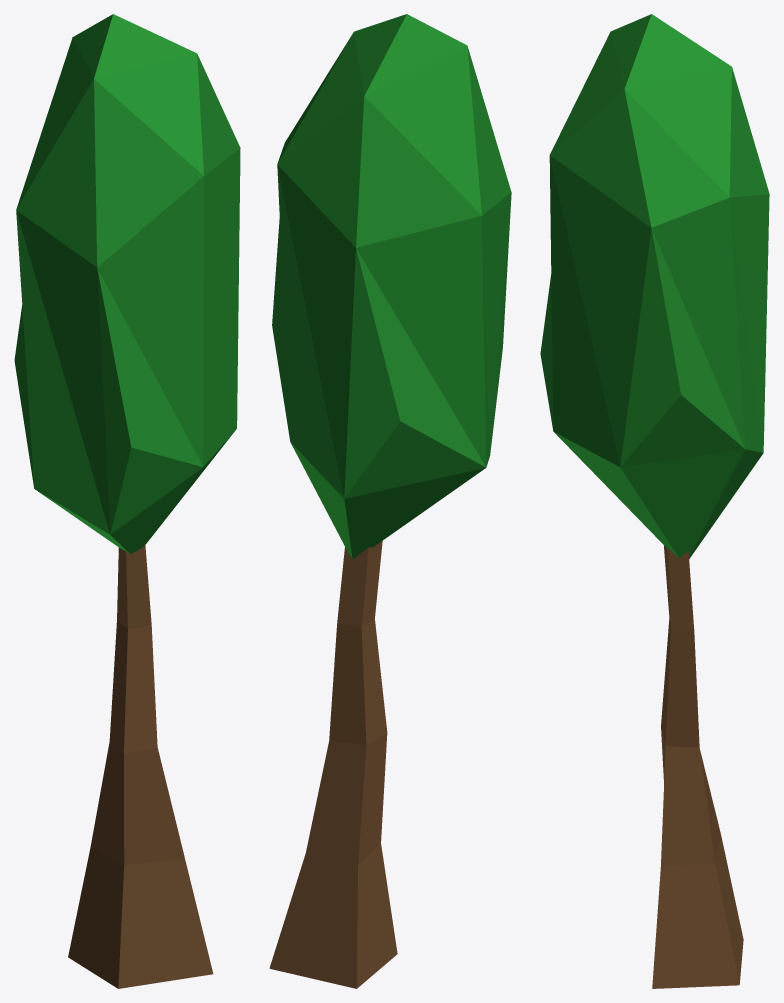
Rendered from tree2.fbx.
3 views of the same model, side by side, from view 1: azimuth 30°, elevation 25°; view 2: azimuth 150°, elevation 25°; view 3: azimuth 270°, elevation 25° (orthographic). The views are drawn at different scales.
Visible parts, largest first — view 1: crown6; view 2: crown6; view 3: crown6.
Part boxes in pixels (x1=…): crown6: x1=14, y1=14, x2=240, y2=988; crown6: x1=269, y1=14, x2=511, y2=988; crown6: x1=540, y1=14, x2=769, y2=988.
Bounding box in the file's own units: 22.81 × 99.99 × 22.36.
